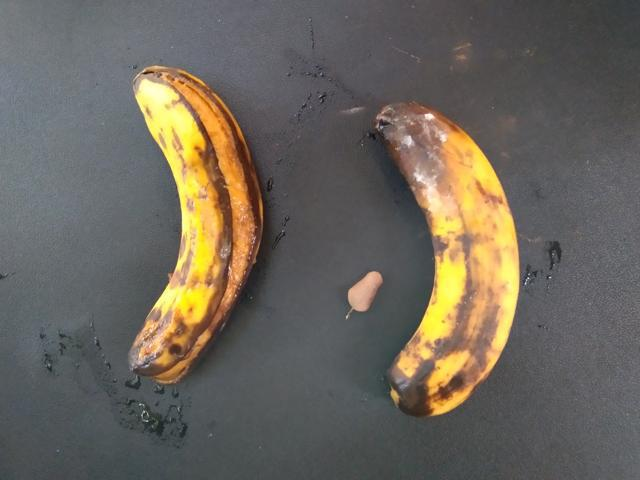rotten: (115, 52, 304, 419), (366, 101, 550, 446)
